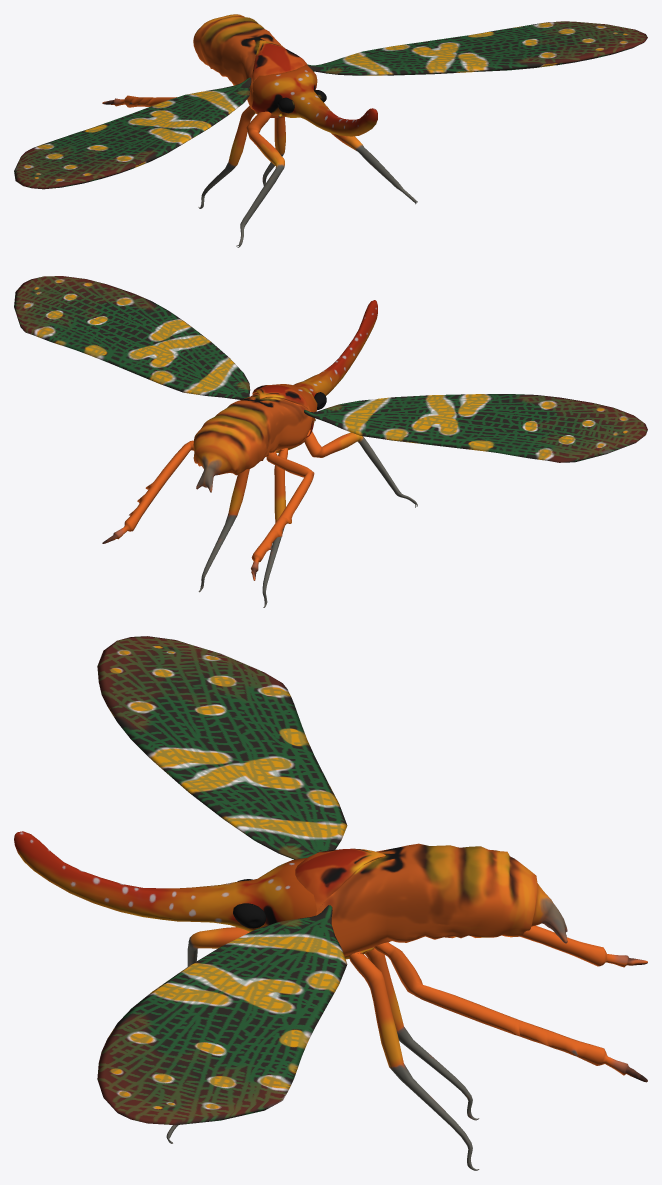
The model's file is lanternfly.glb.
The picture shows the model from 3 angles, top to bottom: view 1: azimuth 30°, elevation 25°; view 2: azimuth 150°, elevation 25°; view 3: azimuth 270°, elevation 25°; orthographic projection. The views are drawn at different scales.
Parts seen in each view (by area): view 1: lanternfly_closed_low; view 2: lanternfly_closed_low; view 3: lanternfly_closed_low.
Boxes of the visible parts, x1,y1,x2,y2 form: lanternfly_closed_low: (14,14,647,247); lanternfly_closed_low: (14,276,647,607); lanternfly_closed_low: (14,636,647,1170).
Size of the model in its own units: 148 by 44.27 by 81.13.
Materials: 1 (1 with a texture image).
